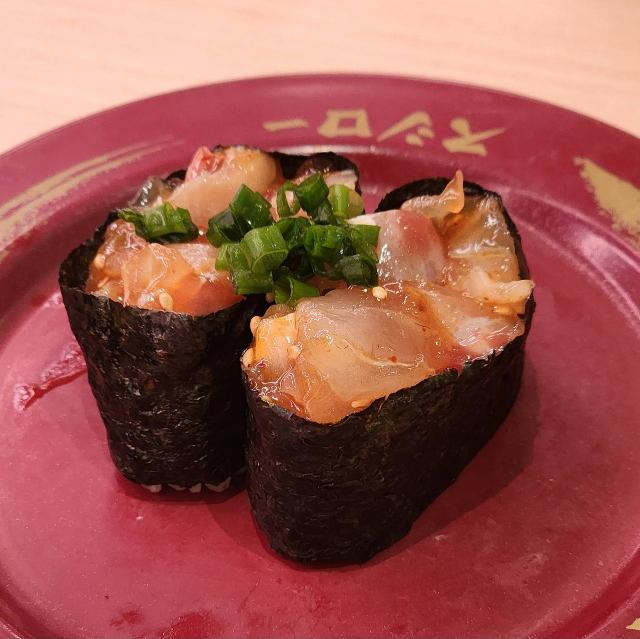janred: (0, 71, 640, 639)
